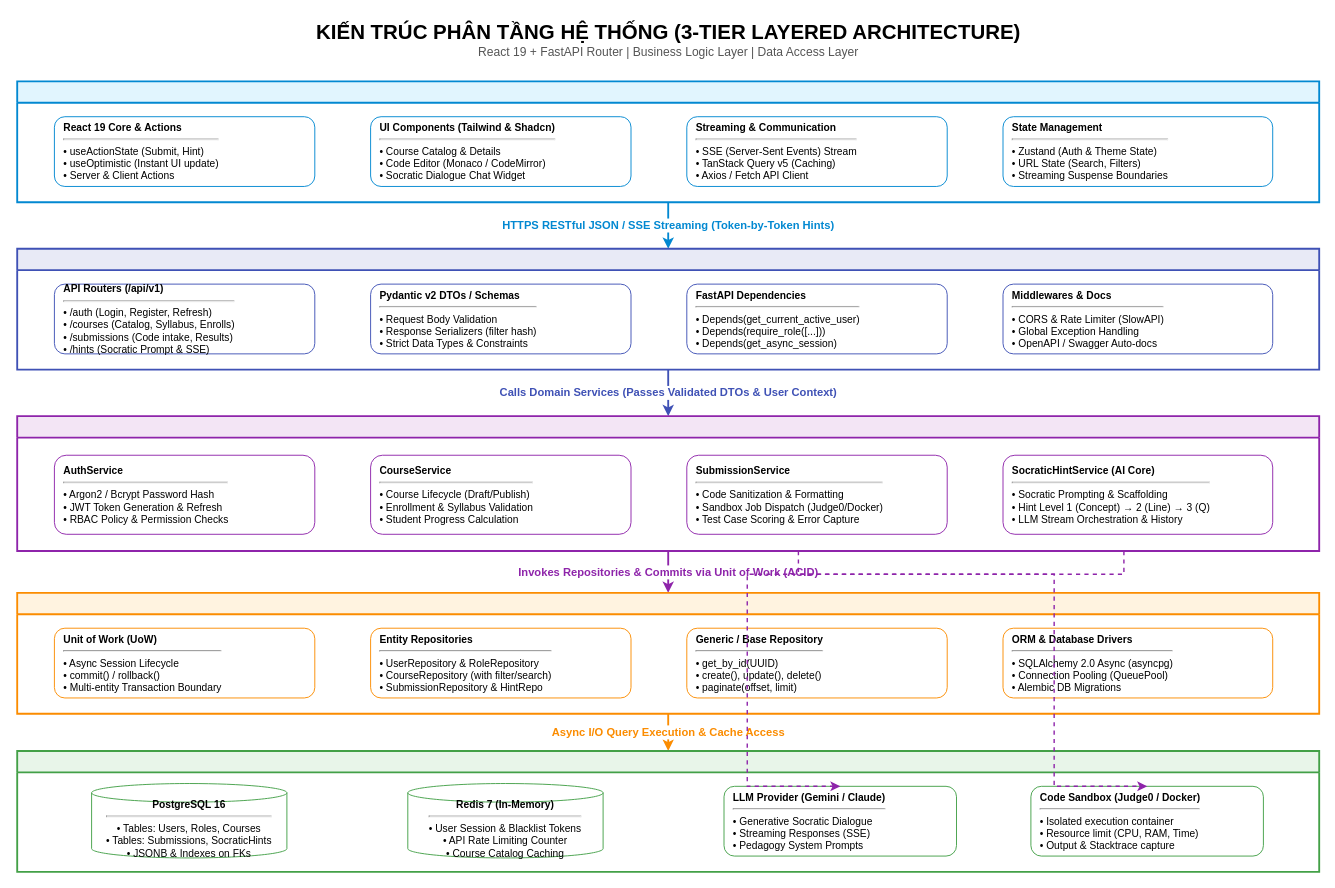
Image size: 1335x888. Some labels were removed from this diagram. Each missing label, with the box of its shape:
BUSINESS LOGIC LAYER - BLL (Domain Services & Socratic AI Engine): (16, 415, 1320, 551)
DATA ACCESS LAYER - DAL (Repository Pattern & Unit of Work): (16, 591, 1320, 714)
INFRASTRUCTURE, PERSISTENCE & EXTERNAL SERVICES: (16, 750, 1320, 872)
PRESENTATION LAYER: CLIENT (React 19): (16, 80, 1320, 203)
PRESENTATION LAYER: SERVER API GATEWAY (FastAPI Routers & DTOs): (16, 247, 1320, 370)
